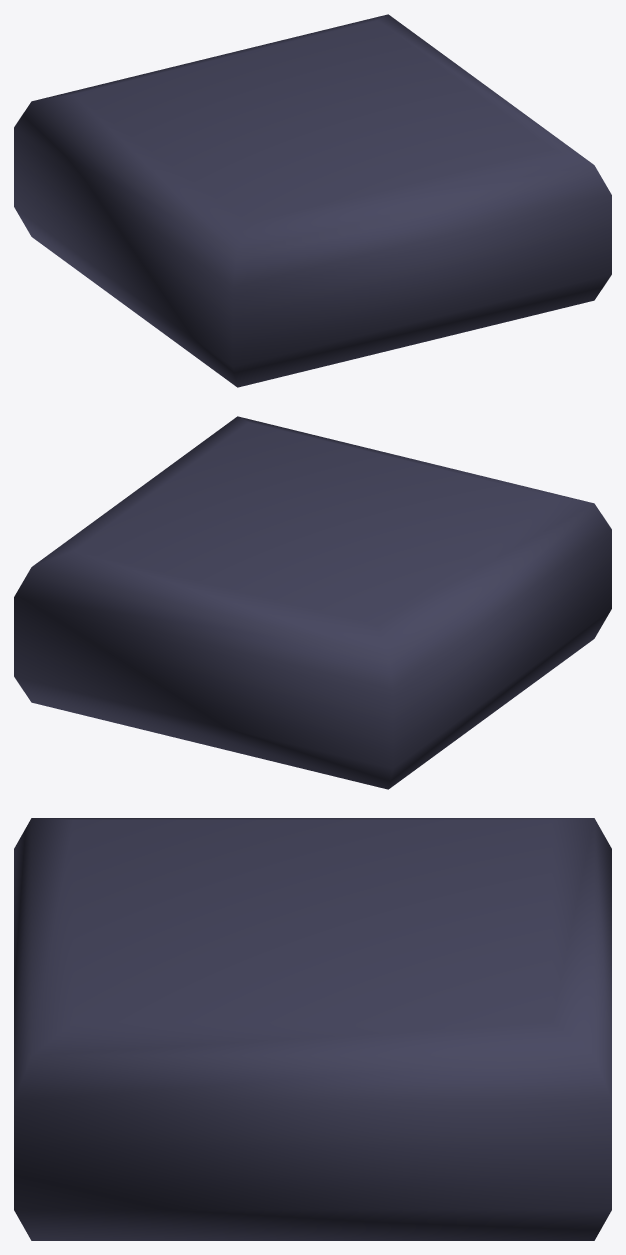
The model's file is conveyor-cross.fbx.
3 views of the same model, one above another, from view 1: azimuth 30°, elevation 25°; view 2: azimuth 150°, elevation 25°; view 3: azimuth 270°, elevation 25° (orthographic). The views are drawn at different scales.
Parts seen in each view (by area): view 1: conveyor-cross; view 2: conveyor-cross; view 3: conveyor-cross.
Boxes of the visible parts, box(x1,y1,x2,y2) form: conveyor-cross: box(14, 14, 611, 387); conveyor-cross: box(14, 416, 611, 789); conveyor-cross: box(14, 818, 611, 1240).
Bounding box in the file's own units: 100 × 40 × 100.
Materials: 1 (1 with a texture image).
